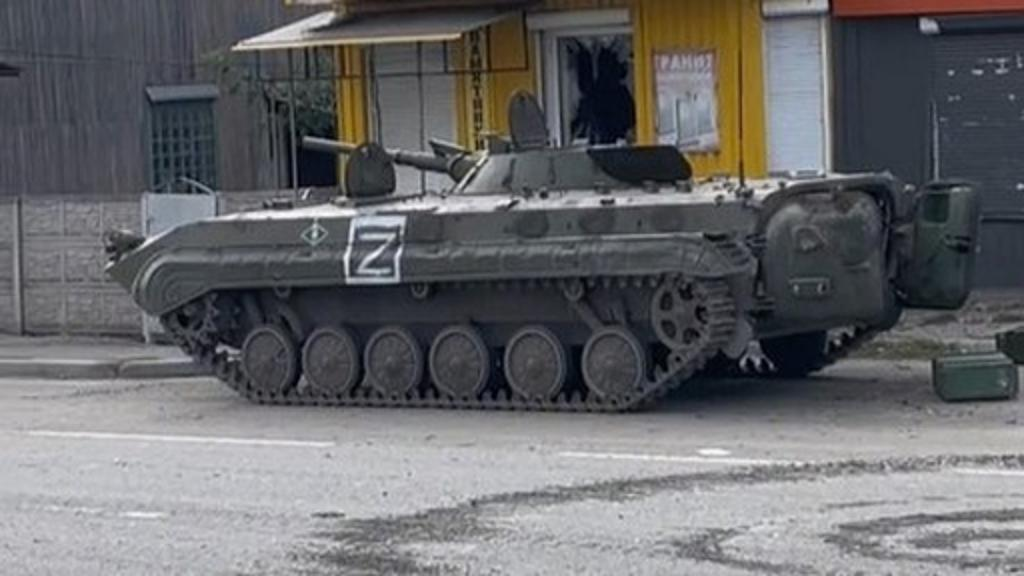APC-IFV: (94, 98, 982, 416)
